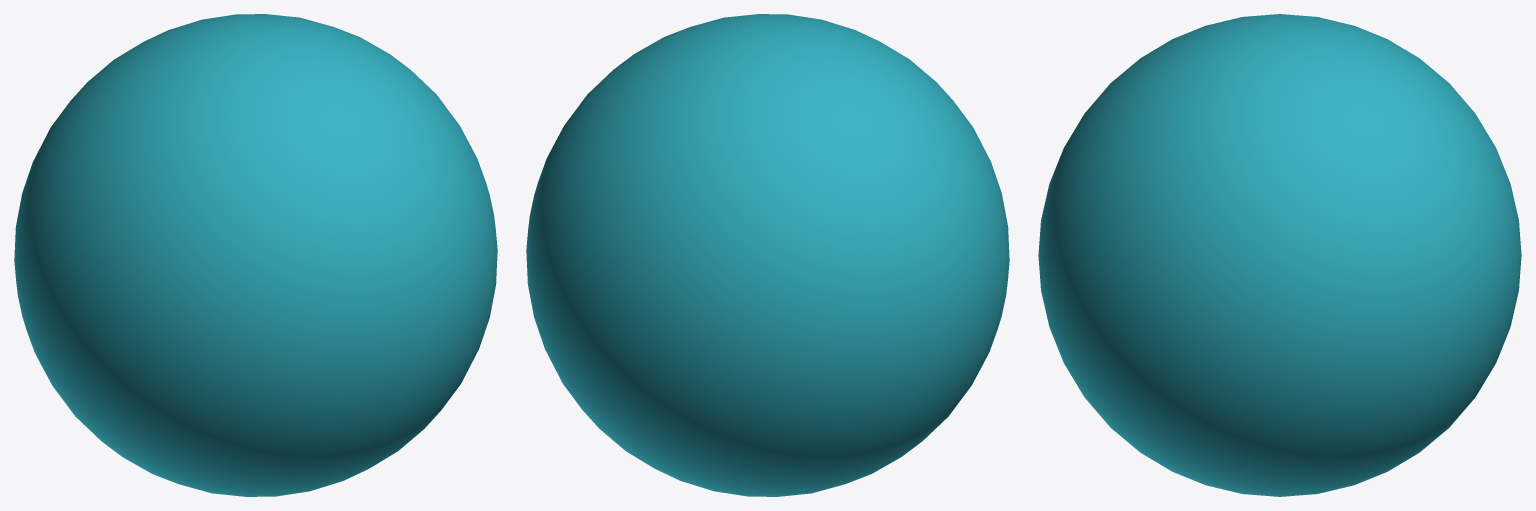
The picture shows the model from 3 angles, left to right: view 1: azimuth 30°, elevation 25°; view 2: azimuth 150°, elevation 25°; view 3: azimuth 270°, elevation 25°; orthographic projection.
Parts seen in each view (by area): view 1: GeoSphere001; view 2: GeoSphere001; view 3: GeoSphere001.
Boxes of the visible parts, x1,y1,x2,y2 form: GeoSphere001: (14, 14, 497, 496); GeoSphere001: (526, 14, 1009, 496); GeoSphere001: (1038, 14, 1521, 496).
Bounding box in the file's own units: 2.76 × 2.76 × 2.76.
